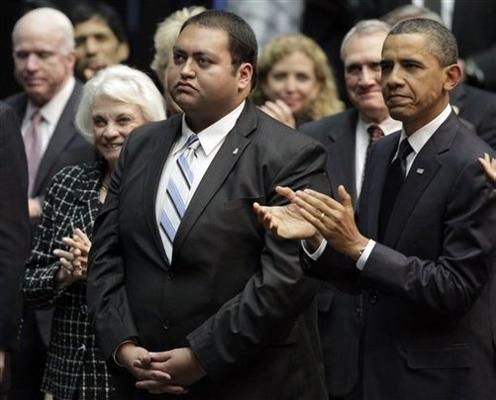person: (250, 18, 496, 398)
